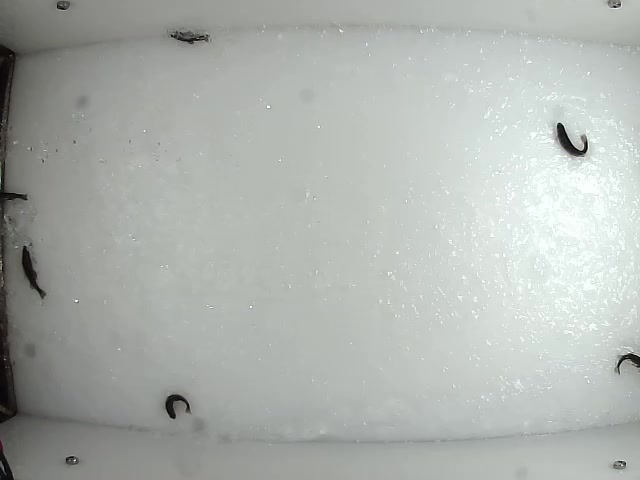fish: (18, 244, 48, 301), (555, 121, 591, 158), (162, 391, 192, 418), (169, 27, 210, 46)
